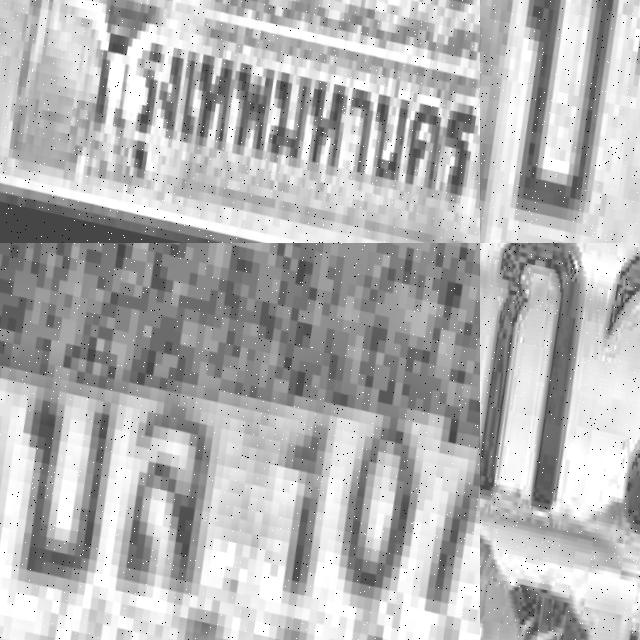license-plate: (0, 243, 480, 640), (0, 0, 480, 243), (480, 243, 640, 640), (480, 0, 640, 243)
